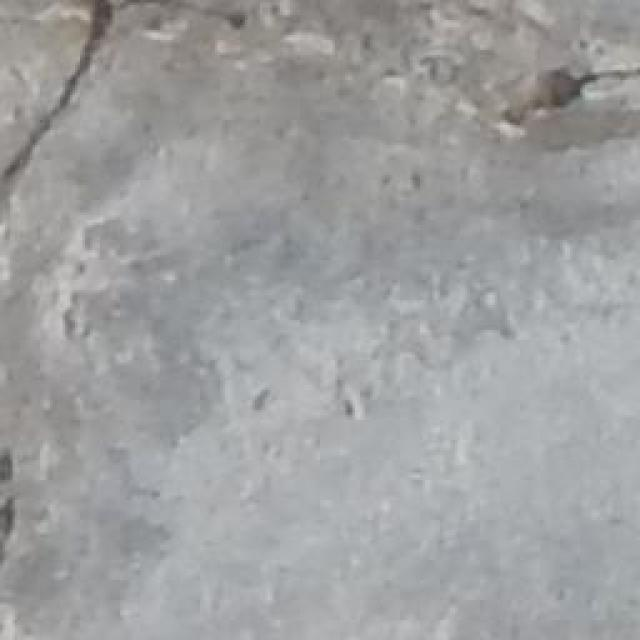concrete-crack: (0, 0, 120, 190), (488, 63, 640, 139)
